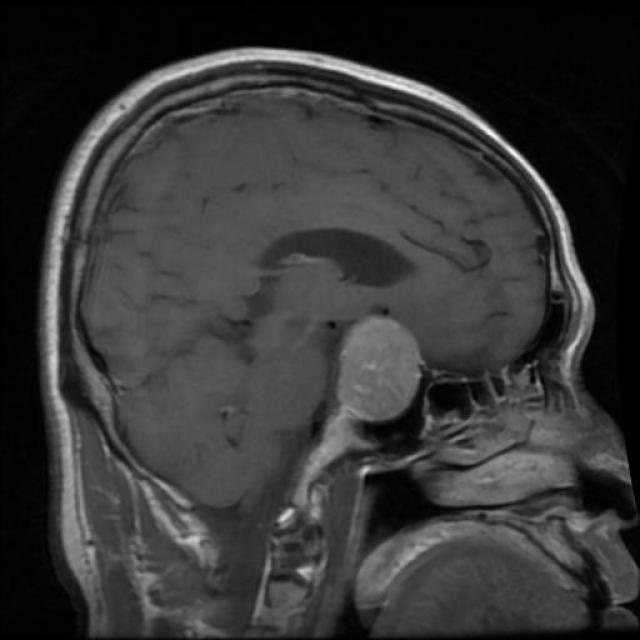Brain-Tumor: (328, 296, 434, 434)
